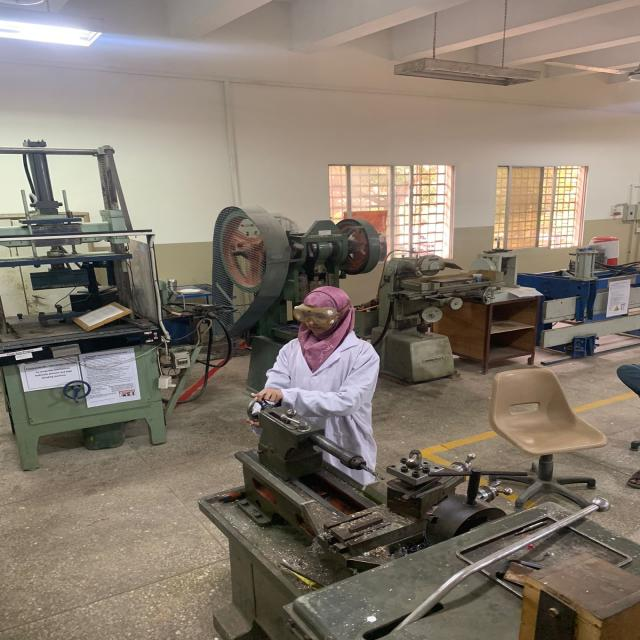googles: (290, 304, 341, 326)
labcoat: (256, 326, 382, 489)
